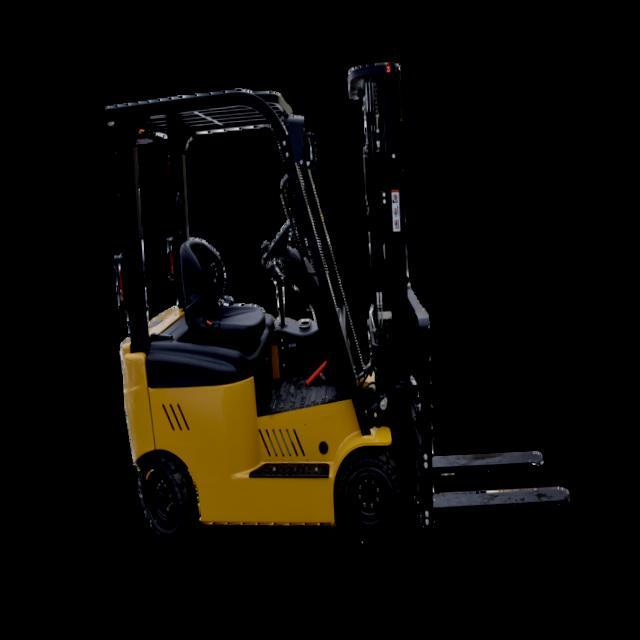forklift: (92, 63, 467, 570)
